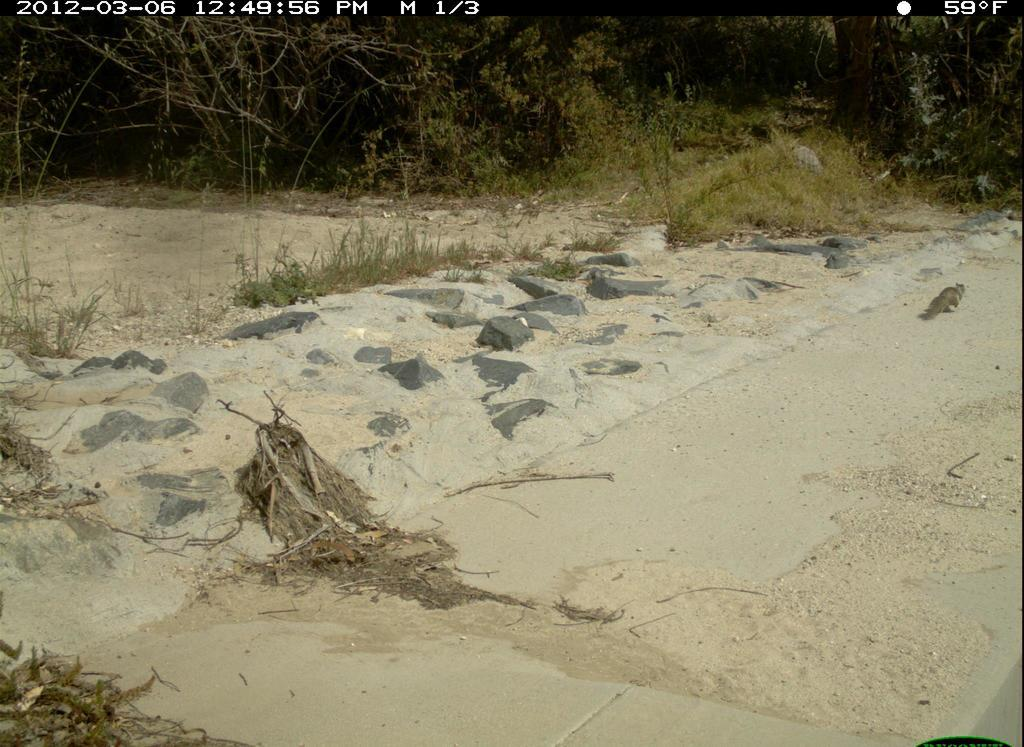squirrel: (921, 280, 969, 326)
